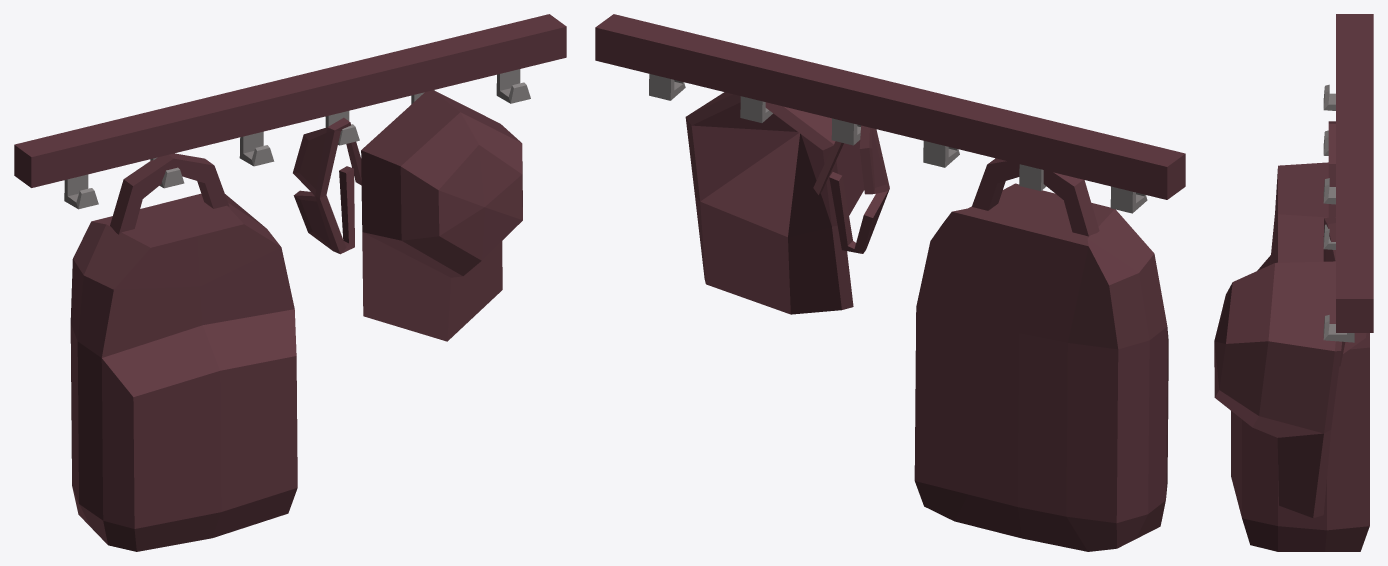
Rendered from hanger-wall-clothes-b.fbx.
3 views of the same model, side by side, from view 1: azimuth 30°, elevation 25°; view 2: azimuth 150°, elevation 25°; view 3: azimuth 270°, elevation 25° (orthographic). The views are drawn at different scales.
Parts seen in each view (by area): view 1: hanger-wall-clothes-b; view 2: hanger-wall-clothes-b; view 3: hanger-wall-clothes-b.
Boxes of the visible parts, box(x1,y1,x2,y2) form: hanger-wall-clothes-b: box(14, 14, 566, 551); hanger-wall-clothes-b: box(595, 14, 1185, 551); hanger-wall-clothes-b: box(1214, 14, 1373, 551).
Size of the model in its own units: 0.7231 by 0.4995 by 0.171.
